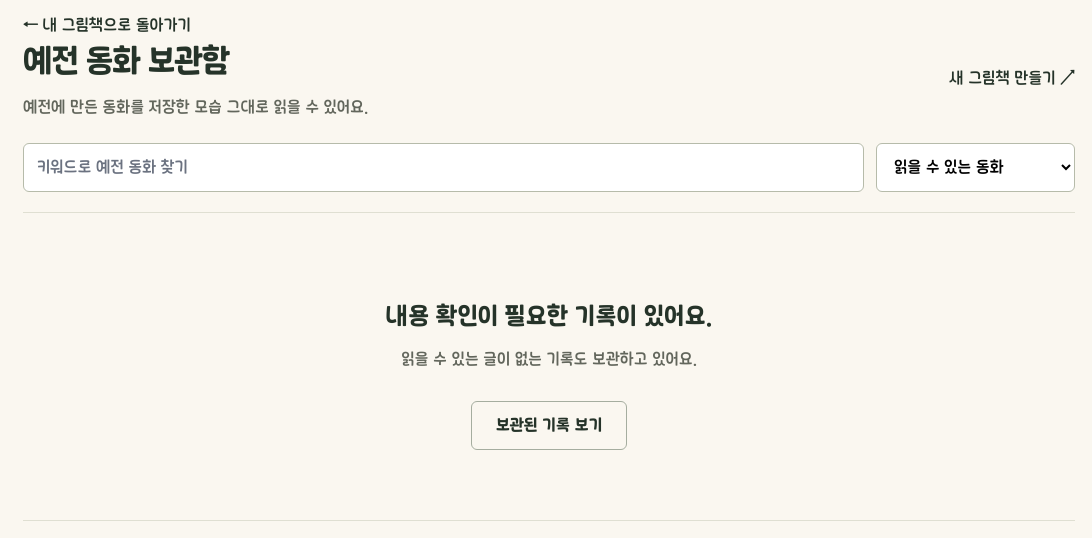
Scenario: beta picturebook shelf and preserved stories › opens empty records directly when an archive has no readable stories
The image size is (1092, 538).
Click the button "보관된 기록 보기".
click(549, 425)  # box [471,400,627,450]
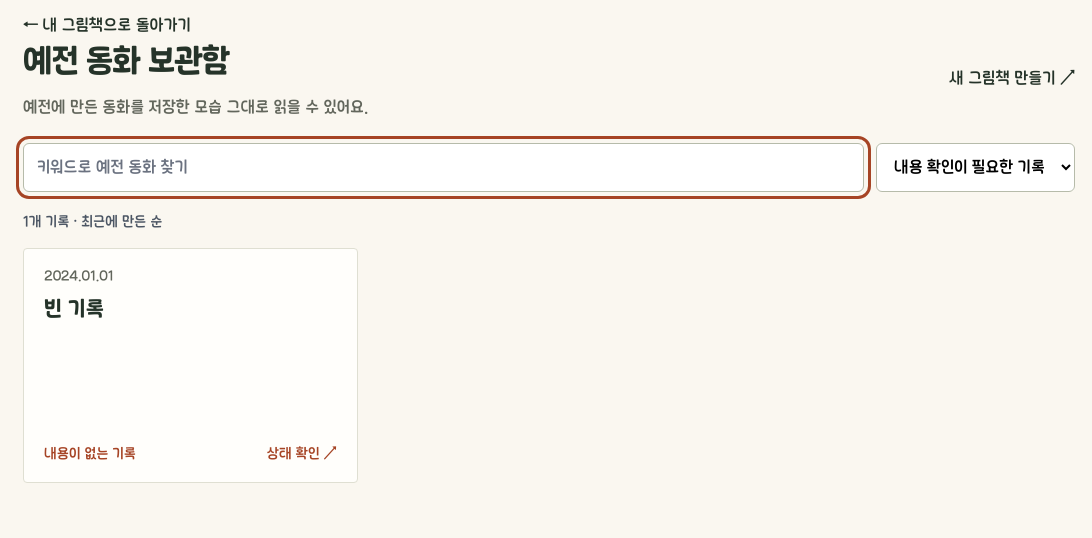
Result: the heading "빈 기록" is shown at [44,297,104,321]
Result: the dropdown shows "내용 확인이 필요한 기록" at [876,143,1075,192]
